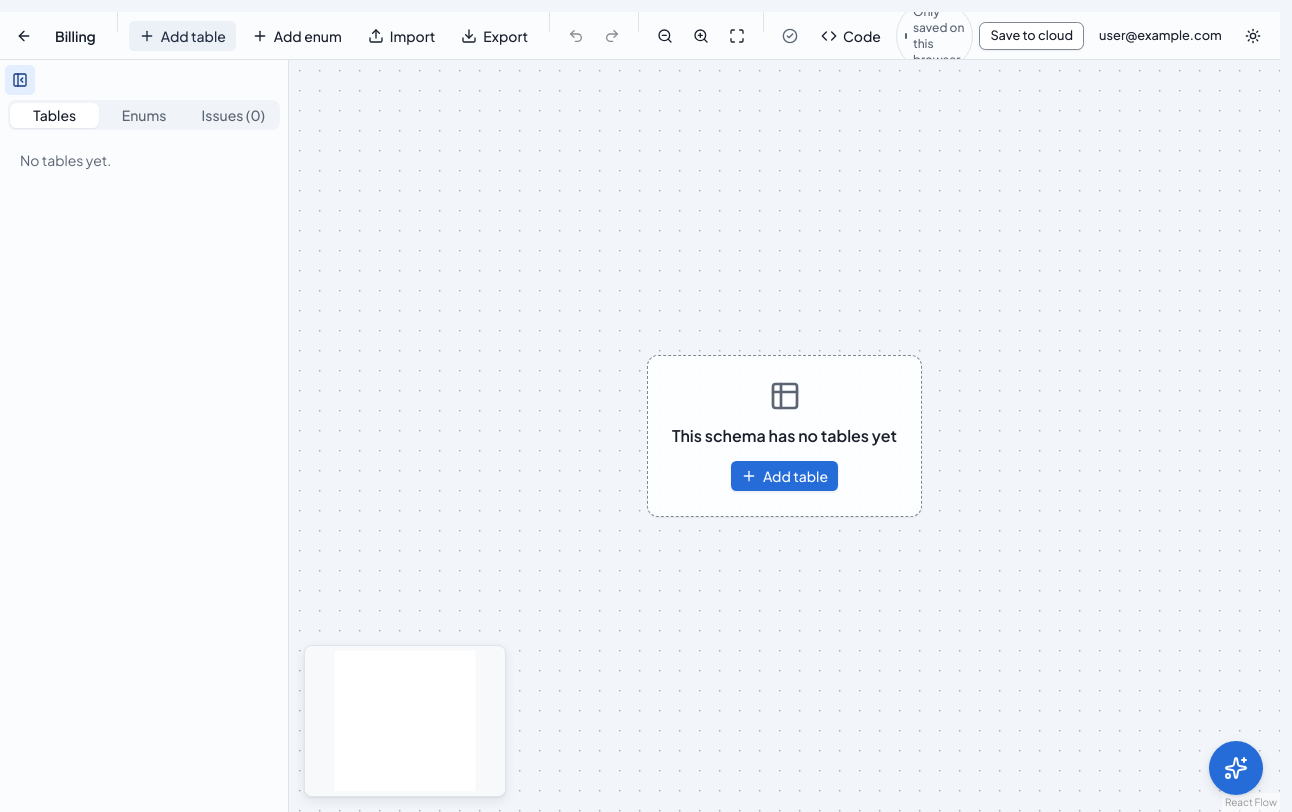
Test: EditorWorkspace › in the cloud › navigates to the new schema route and warns when the upload fails after moving the schema
Expected: the button with aria-label "Account user@example.com" is shown, [1088,22,1233,50]
Click the button "Save to cloud" at (1032, 36), box [979,22,1084,50]
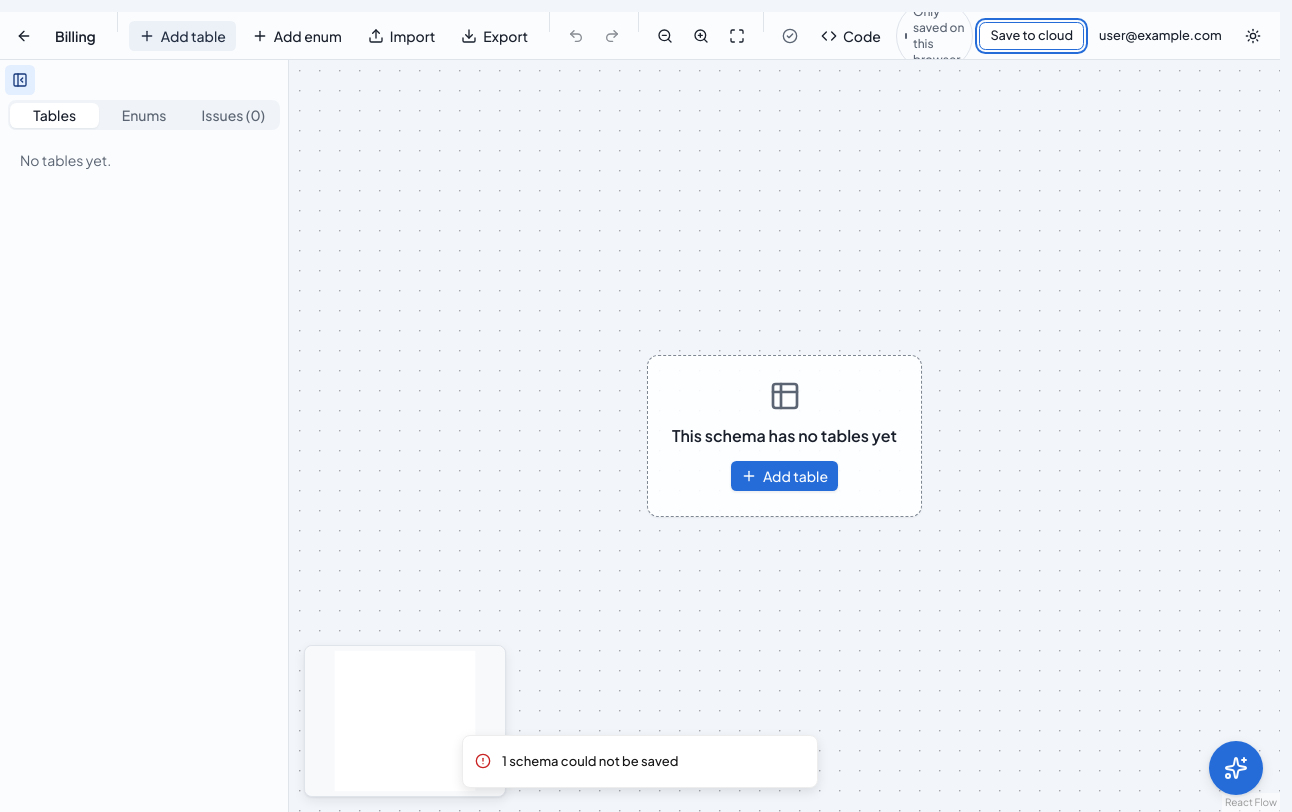
Now the text "1 schema could not be saved" is shown, box [502,752,678,771]
